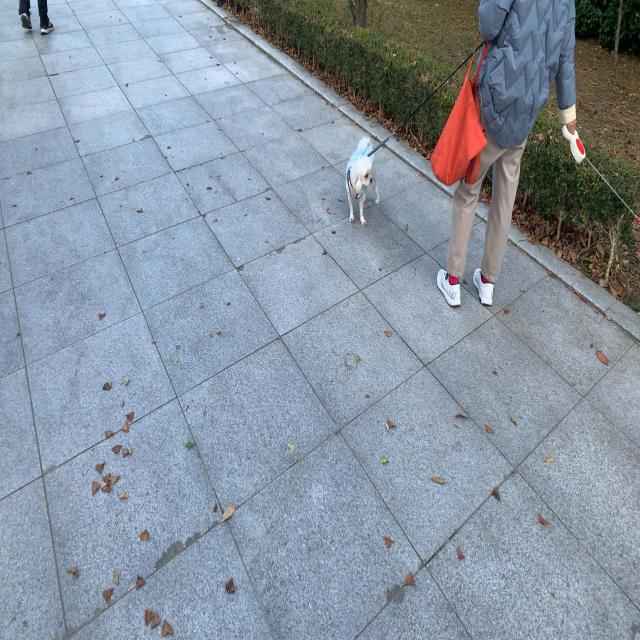Leashed_Dog: (345, 0, 493, 228)
